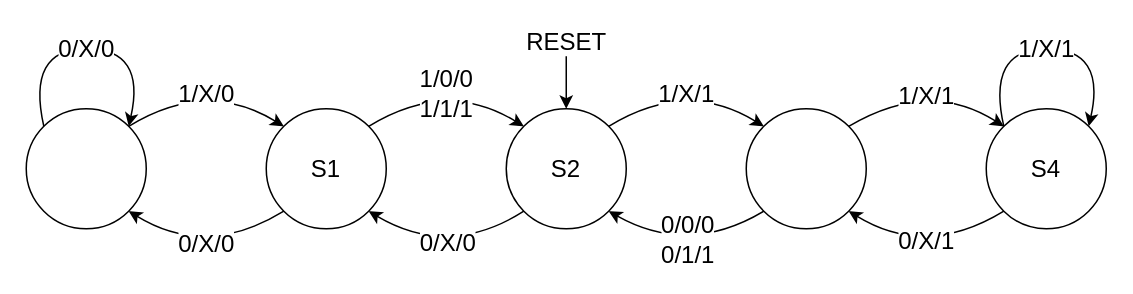
This 1133x294 diagram has some shape labels left out. The box of each missing label's shape, as (x1, y1, x2, y2) in pixels:
S0: (25, 107, 146, 229)
S3: (745, 107, 866, 229)
